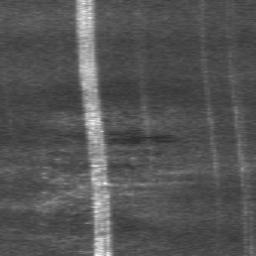Bright scratch: (75, 0, 114, 256)
